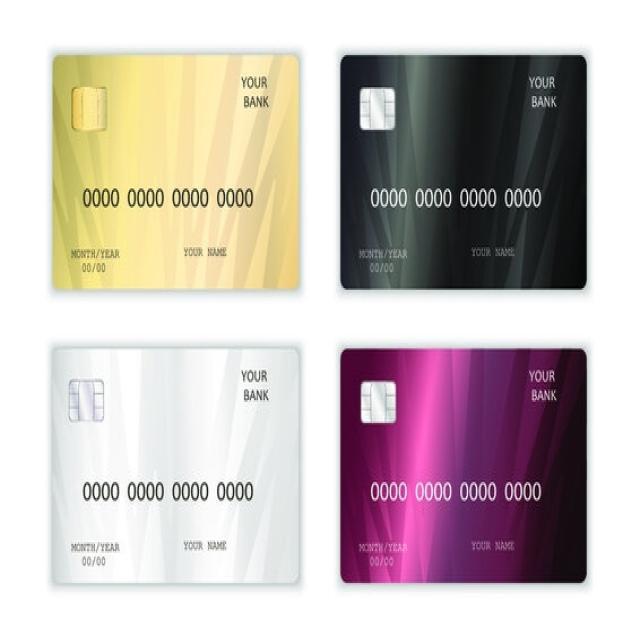payment_card: (49, 345, 300, 585), (338, 58, 589, 296), (50, 52, 300, 290), (338, 347, 587, 584)
